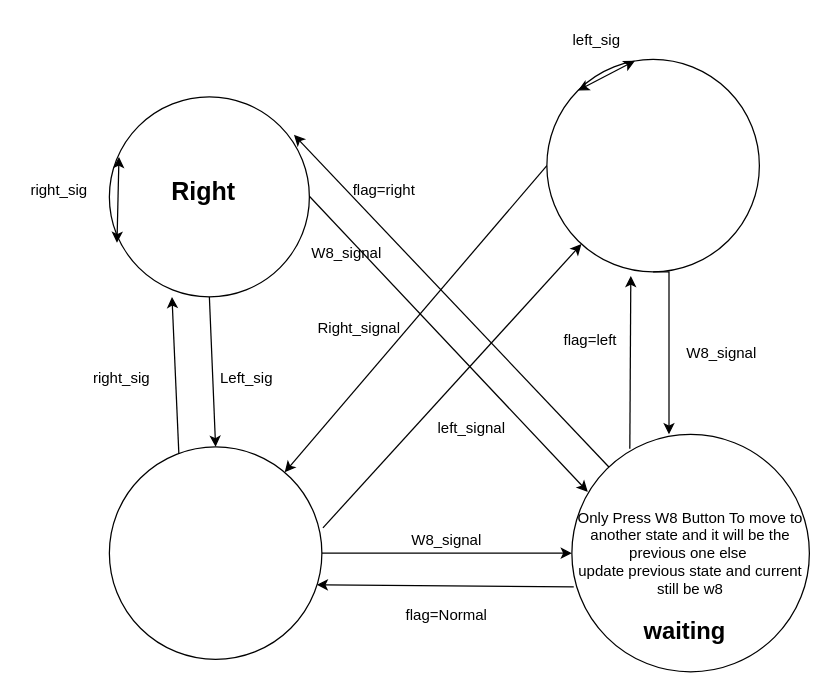
Image size: 831x694. Some labels were removed from this diagram. Each missing label, with the centre of its shape:
"left" belongs at (652,165).
"Normal" belongs at (215,552).
